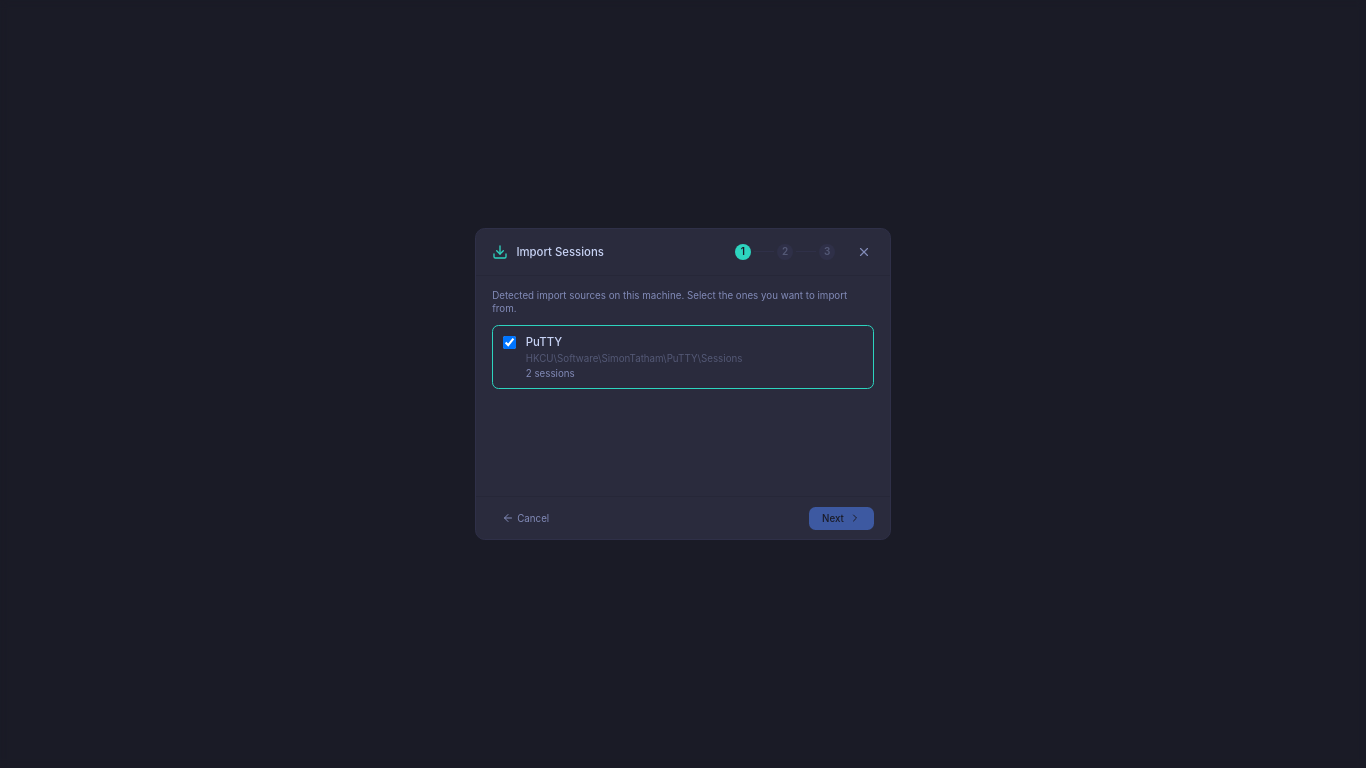
Test: ImportWizard › Back returns from preview to detect
The image size is (1366, 768).
Expected: the text "PuTTY" is shown, [526,335,562,349]
Click the button "Next" at (841, 518), box [809,507,874,530]
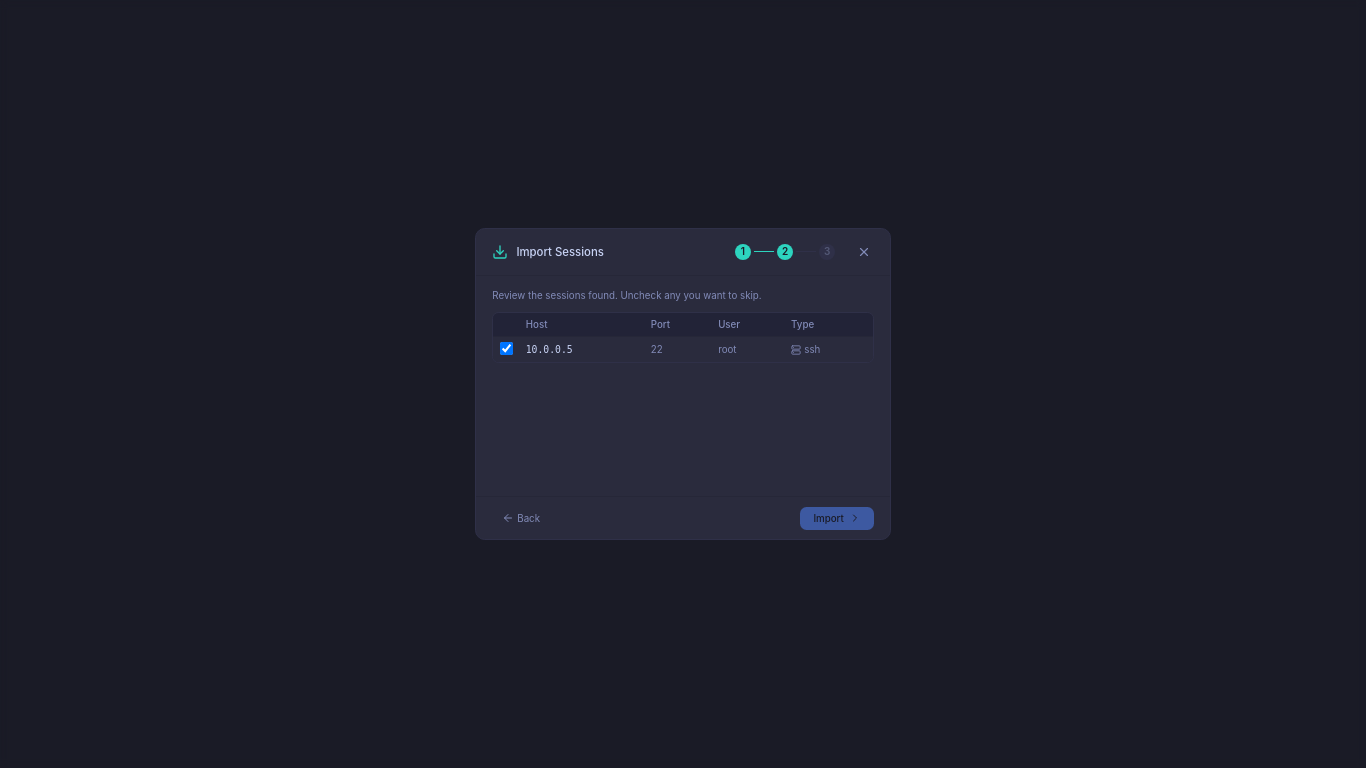
Expected: the text "10.0.0.5" is shown, [519,336,644,362]
Click the button "Back" at (521, 518), box [492,507,550,530]
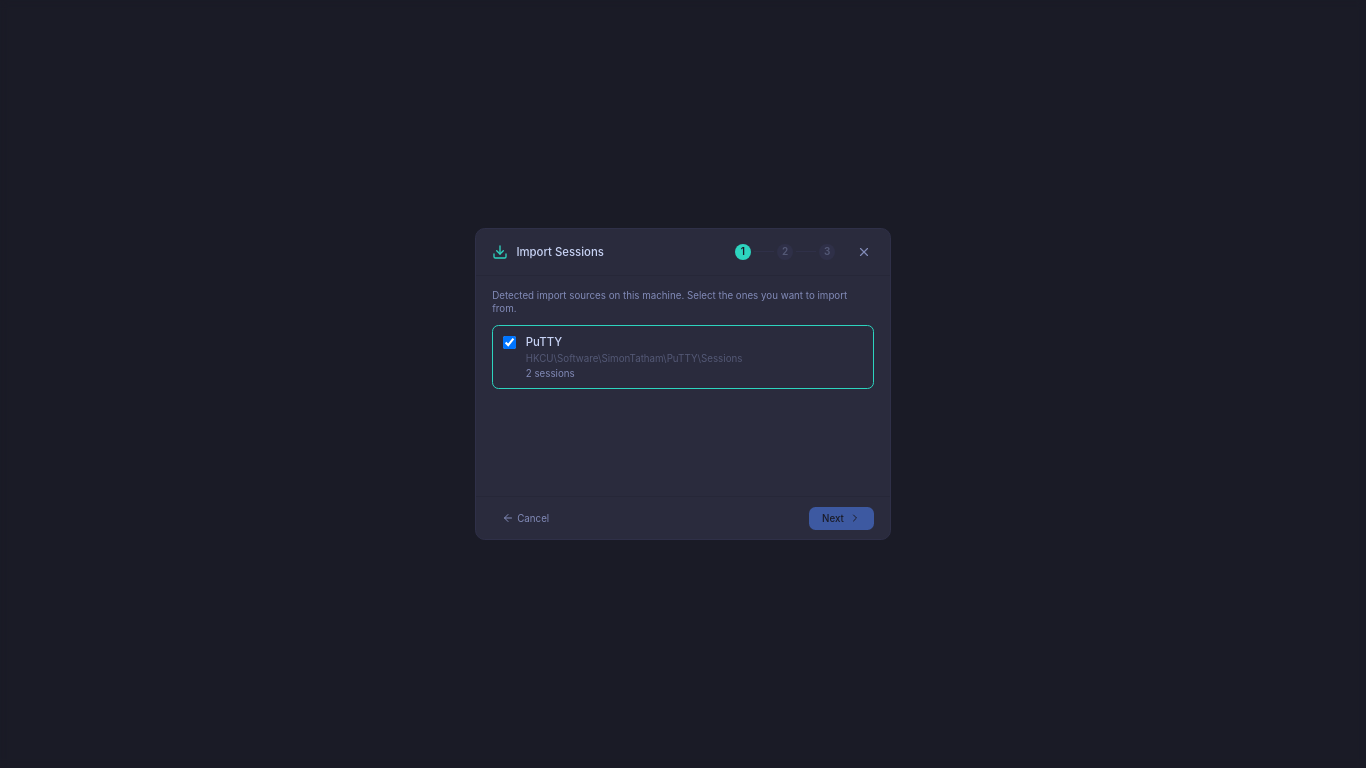
Expected: the text "PuTTY" is shown, [526,335,562,349]
